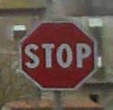stop: (16, 17, 97, 91)
